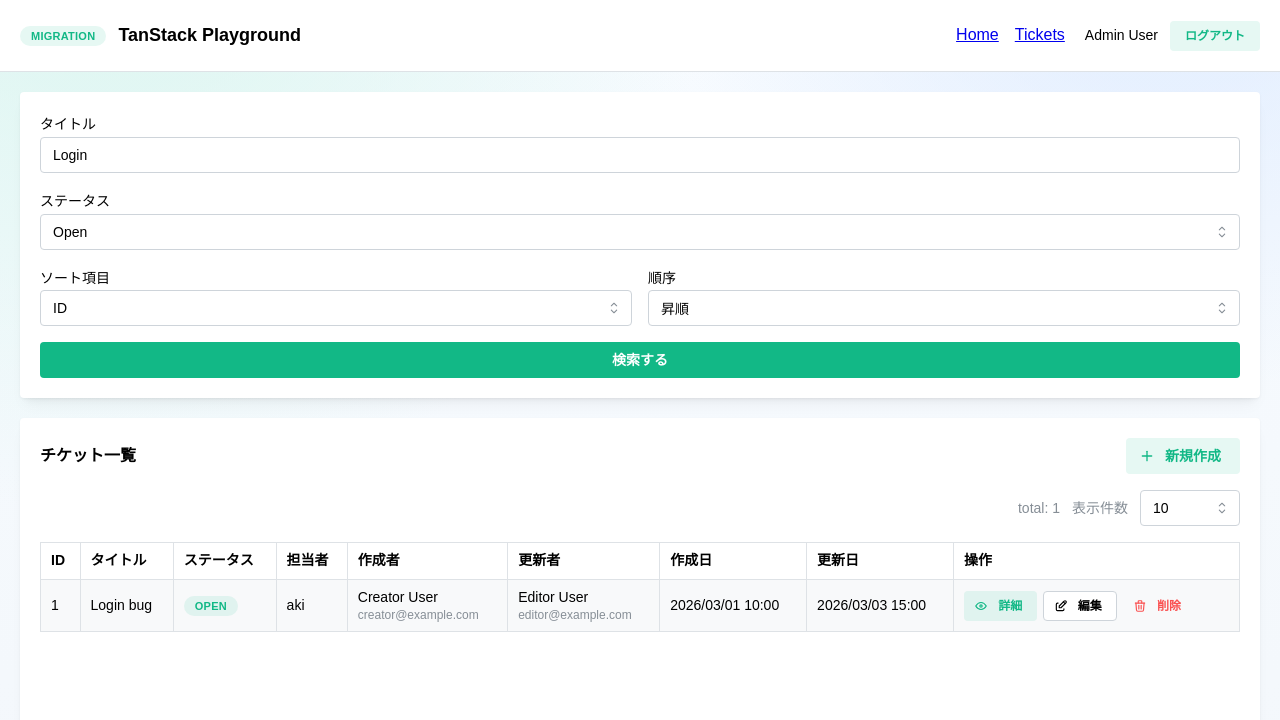
Test: ticket CRUD routes › deletes a ticket from the list, shows a toast, and keeps the current search params
The width and height of the screenshot is (1280, 720).
Expected: the text "Login bug" is shown, [80,580,173,632]
Click the button "削除".
click(1159, 606)  # box [1123,591,1196,621]
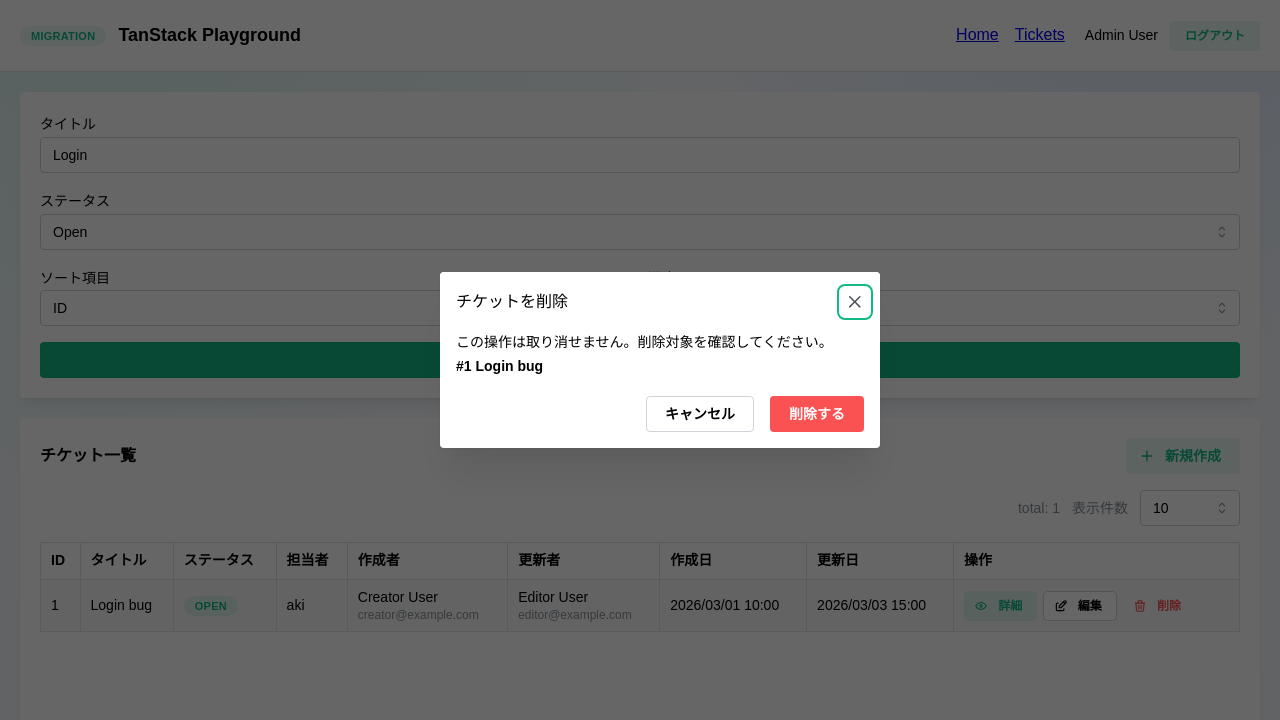
Now the text "この操作は取り消せません。削除対象を確認してください。" is shown, box [456,332,864,352]
Click the button "削除する".
click(817, 414)  # box [770,396,864,432]
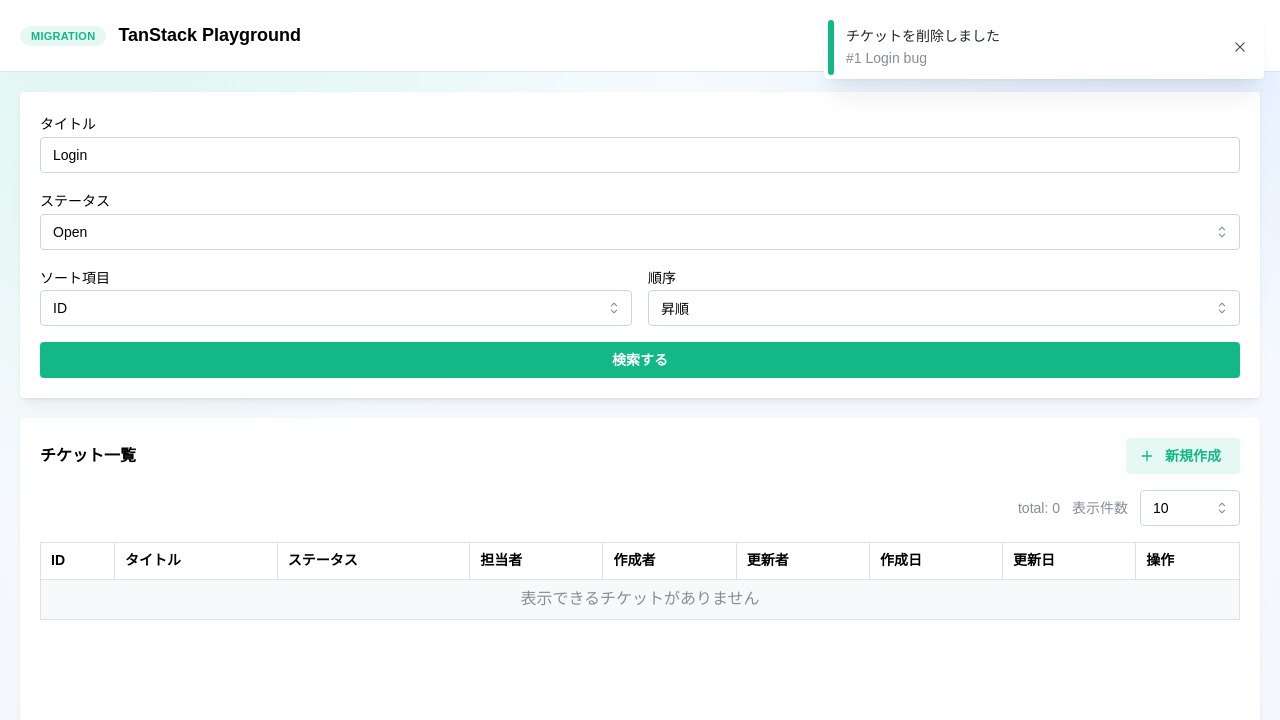
Now the text "チケットを削除しました" is shown, box [846,28,1000,44]
